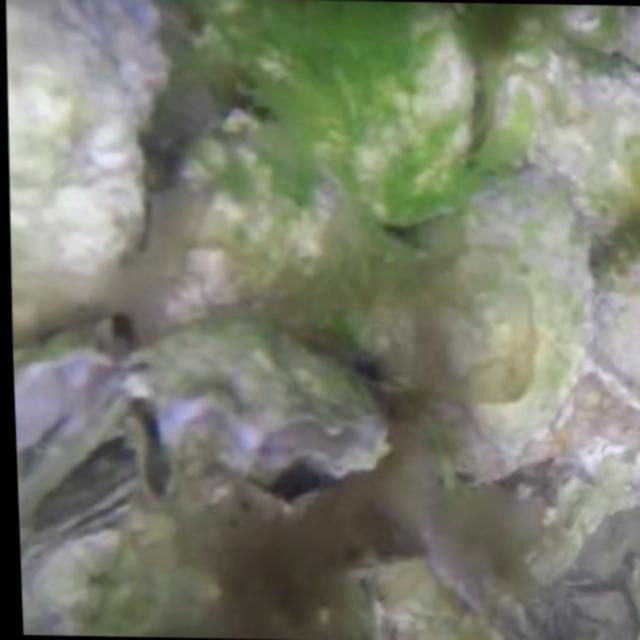Oyster-Indeterminate: (6, 0, 170, 325), (421, 166, 601, 457), (351, 2, 473, 217), (387, 559, 502, 640)
Oyster-Open: (121, 321, 384, 485), (20, 402, 147, 542)
